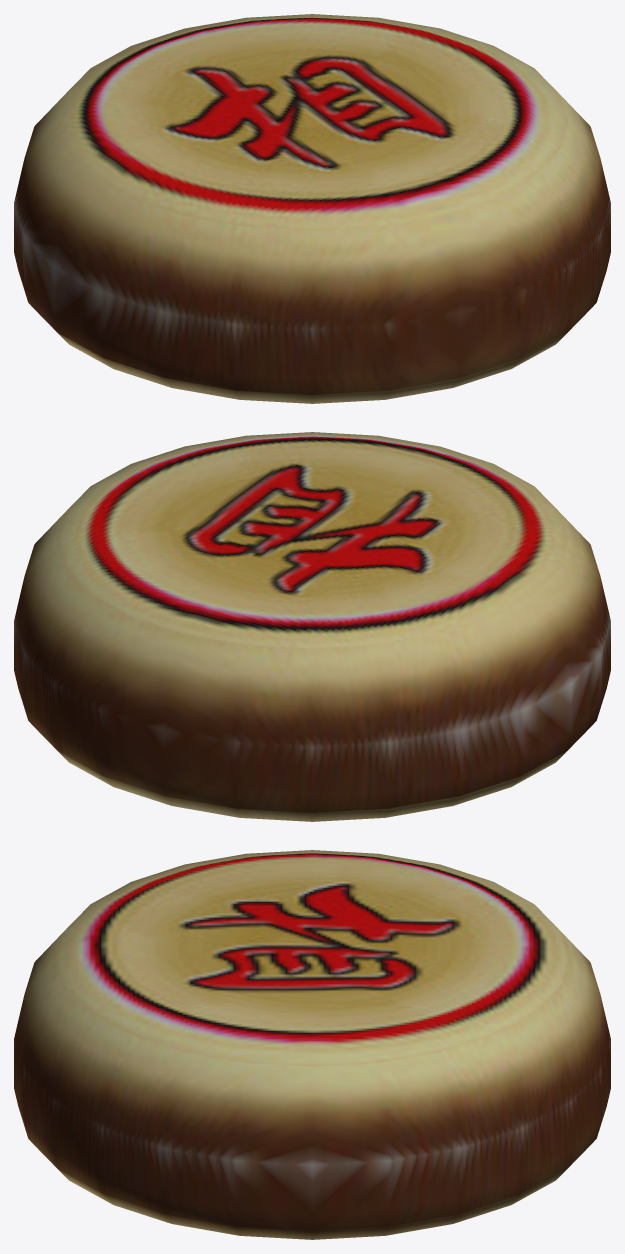
File: Red_29_elephant_right.gltf
The picture shows the model from 3 angles, top to bottom: view 1: azimuth 30°, elevation 25°; view 2: azimuth 150°, elevation 25°; view 3: azimuth 270°, elevation 25°; orthographic projection.
Parts seen in each view (by area): view 1: Red_29_elephant_right; view 2: Red_29_elephant_right; view 3: Red_29_elephant_right.
Boxes of the visible parts, left/top/right/bottom form: Red_29_elephant_right: left=14, top=14, right=610, bottom=403; Red_29_elephant_right: left=14, top=432, right=610, bottom=821; Red_29_elephant_right: left=14, top=850, right=610, bottom=1239.
Bounding box in the file's own units: 0.0468 × 0.0155 × 0.0468.
Materials: 1 (1 with a texture image).
